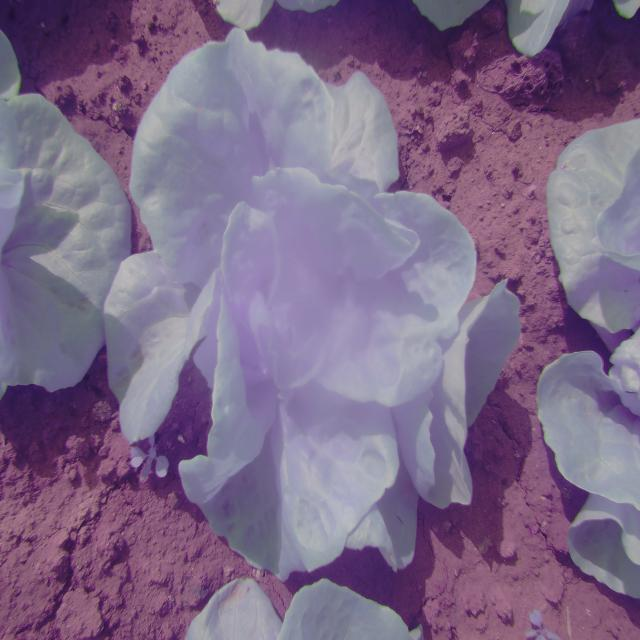vege: (104, 27, 522, 574)
